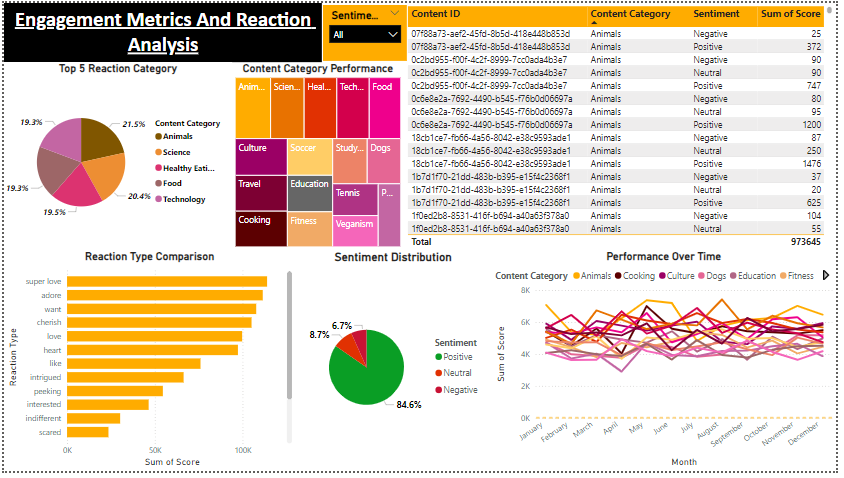

Layout of this report page (visuals, bound fields, positions):
{"tool":"powerbi","page":{"name":"Page 1","canvas":[1280,720],"ordinal":0},"visuals":[{"type":"pieChart","title":"Sentiment Distribution","fields":{"Category":["Data.Sentiment"],"Y":["Sum(Data.Score)"]},"box":[448.2,380.6,302,340],"z":0},{"type":"clusteredBarChart","title":"Reaction Type Comparison","fields":{"Category":["Data.Reaction Type"],"Y":["Sum(Data.Score)"]},"box":[0,380.6,448.2,339.4],"z":1000},{"type":"treemap","title":"Content Category Performance","fields":{"Values":["Sum(Data.Score)"],"Group":["Data.Content Category"]},"box":[351.2,91.1,264.5,289.5],"z":2000},{"type":"lineChart","title":"Performance Over Time","fields":{"Series":["Data.Content Category"],"Y":["Sum(Data.Score)"],"Category":["Data.Datetime.Variation.Date Hierarchy.Year","Data.Datetime.Variation.Date Hierarchy.Month"]},"box":[750.9,380.6,529,339.4],"z":3000},{"type":"tableEx","fields":{"Values":["Data.Content ID","Data.Content Category","Data.Sentiment","Sum(Data.Score)"]},"box":[615.7,0,664.2,380.6],"z":4000},{"type":"slicer","title":"Sentiment","fields":{"Values":["Data.Sentiment"]},"box":[490,2.9,129,86],"z":5000},{"type":"textbox","box":[0,0,489.3,91.1],"z":6000},{"type":"pieChart","title":"Top 5 Reaction Category","fields":{"Category":["Top 5 category.Content Category"],"Y":["Sum(Top 5 category.Count)"]},"box":[0,91.1,351.2,289.5],"z":7000}]}

Visuals, with their boxes in screenshot pixels (x1, y1, x2, y2), scaled from the page's 1280x720 canvas onto the 844x478 screenshot:
"Sentiment Distribution" pieChart: box=[296, 253, 495, 477]
"Reaction Type Comparison" clusteredBarChart: box=[0, 253, 296, 477]
"Content Category Performance" treemap: box=[232, 60, 406, 253]
"Performance Over Time" lineChart: box=[495, 253, 843, 477]
tableEx - Data.Content ID x Data.Content Category: box=[406, 0, 843, 253]
"Sentiment" slicer: box=[323, 2, 408, 59]
textbox: box=[0, 0, 323, 60]
"Top 5 Reaction Category" pieChart: box=[0, 60, 232, 253]
